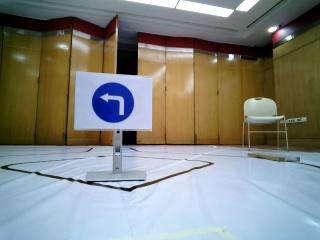left: (86, 77, 144, 123)
